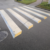zebra: (1, 6, 50, 36)
